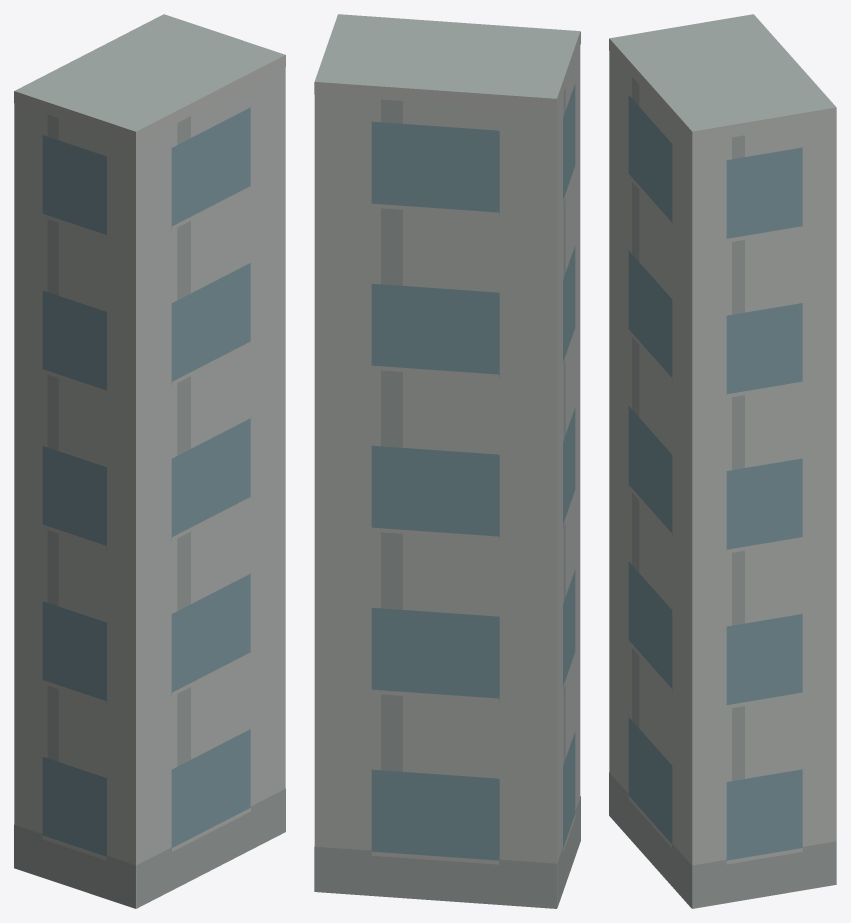
Rendered from survey-upis-32833554.glb.
3 views of the same model, side by side, from view 1: azimuth 30°, elevation 25°; view 2: azimuth 150°, elevation 25°; view 3: azimuth 270°, elevation 25° (orthographic). The views are drawn at different scales.
Parts seen in each view (by area): view 1: survey-upis-32833554.tmp; view 2: survey-upis-32833554.tmp; view 3: survey-upis-32833554.tmp.
Part boxes in pixels (x1,y1,x2,y2): survey-upis-32833554.tmp: (14, 14, 285, 908); survey-upis-32833554.tmp: (314, 14, 580, 908); survey-upis-32833554.tmp: (609, 14, 836, 908).
Size of the model in its own units: 4.95 by 15.25 by 4.05.
